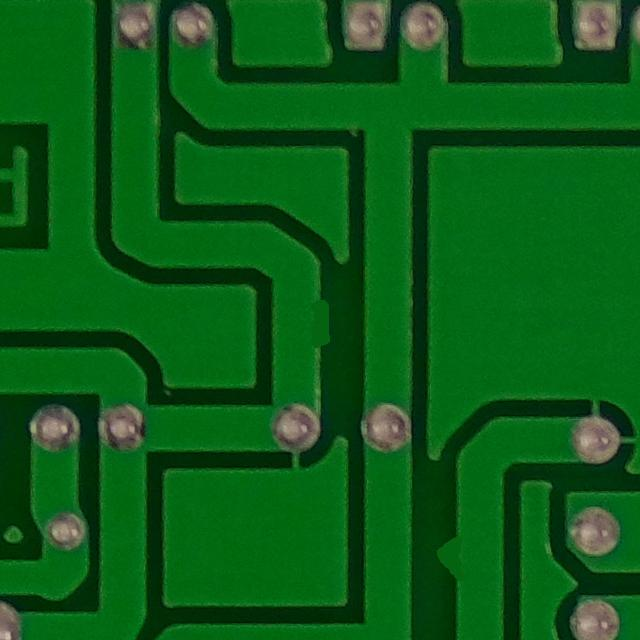spur: (297, 276, 344, 365)
